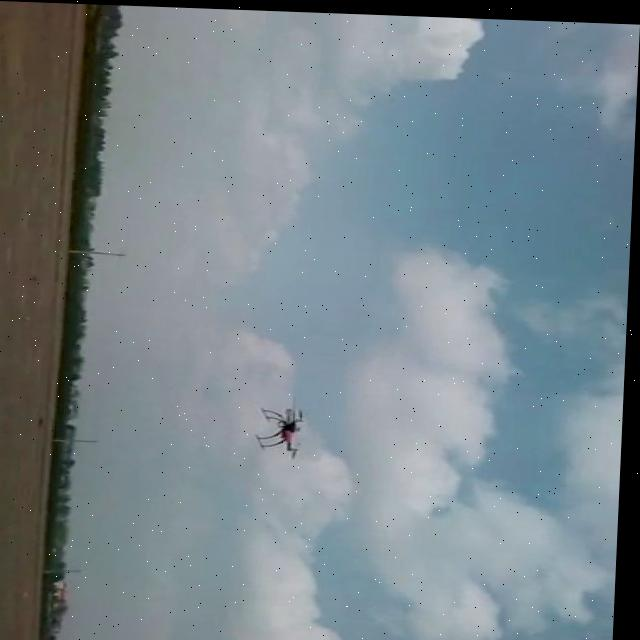drone: (260, 405, 315, 459)
